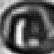correct: (1, 0, 54, 54)
